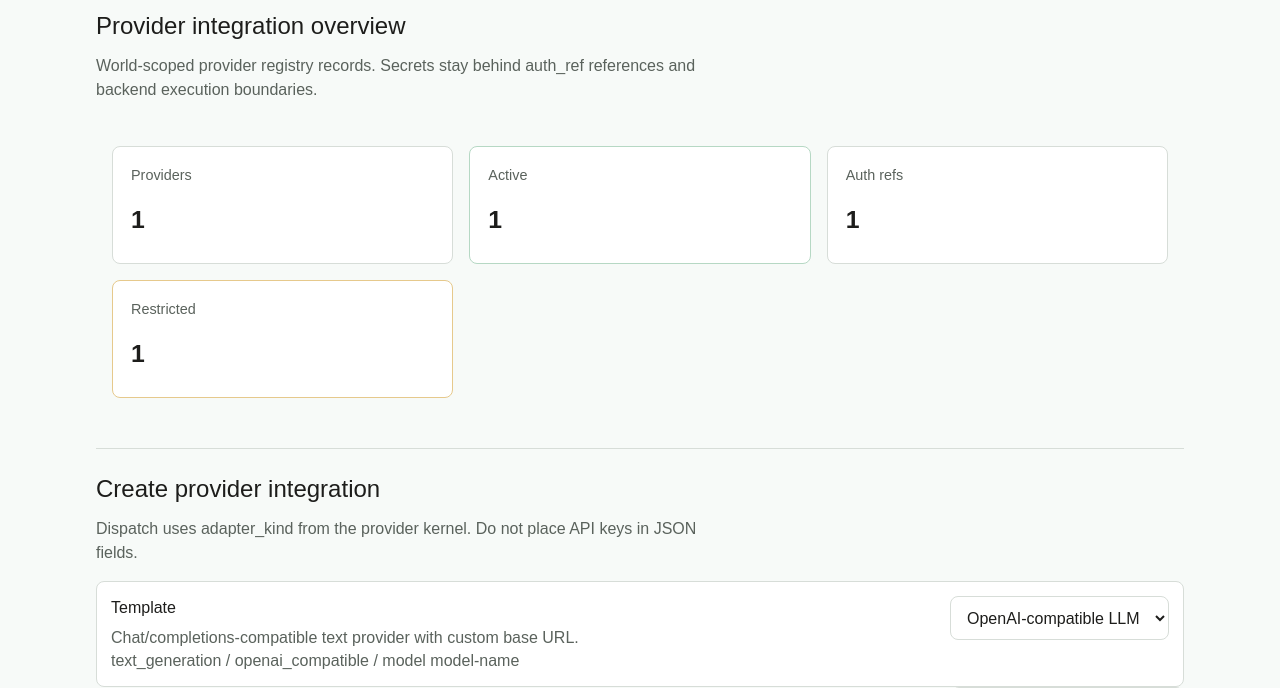
it: ProviderIntegrationAdmin › applies provider templates to the create form
This screenshot has width=1280, height=688.
Select "MiMo V2.5 TTS" in the dropdown named "Provider template" at (1060, 618), box [950,596,1169,640]
(page scrolled)
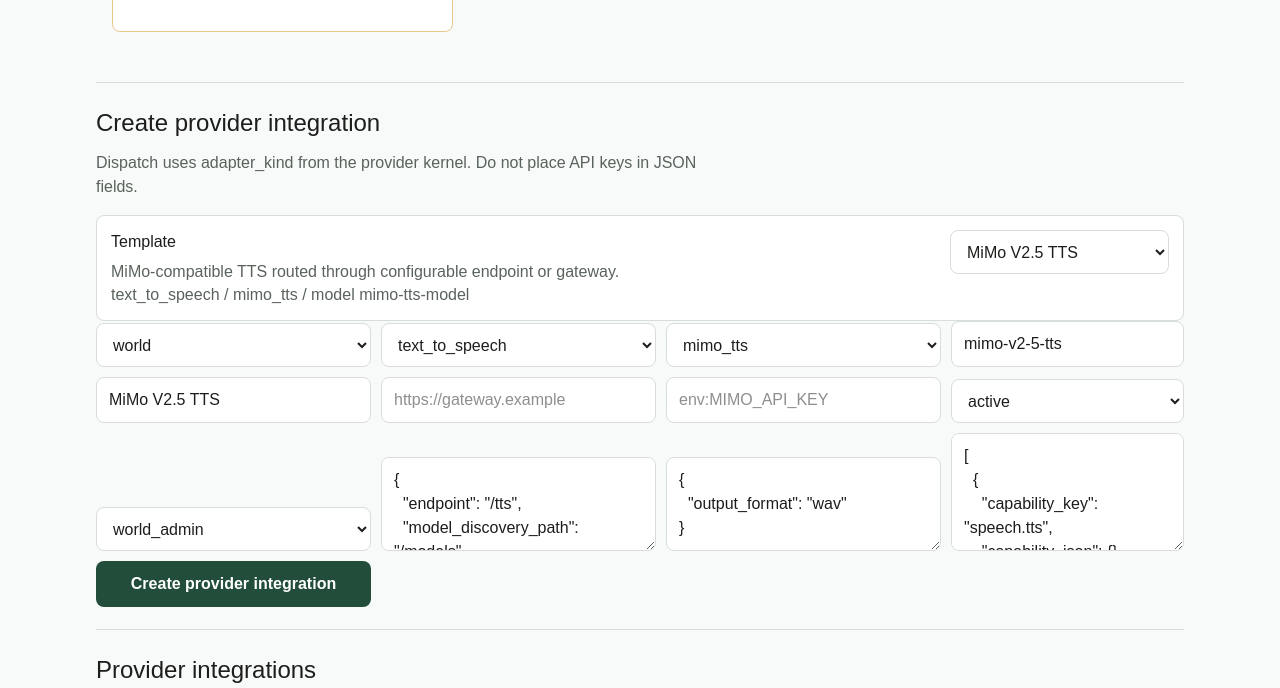
expect the 1st field showing "mimo-v2-5-tts" is shown: met, box [951,321,1184,367]
expect the 2nd field with placeholder "Display name" holds "MiMo V2.5 TTS": met, box [96,377,371,423]
expect the 2nd dropdown showing "text_to_speech" is shown: met, box [381,323,656,367]
